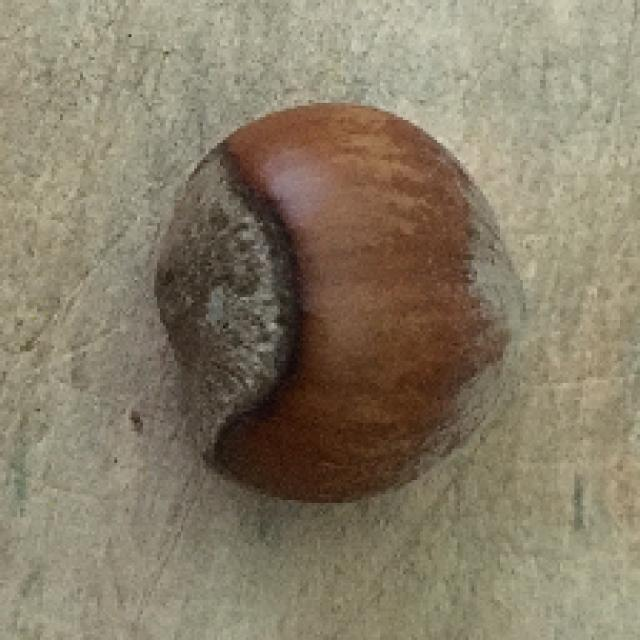qualityHazelnut: (154, 100, 523, 499)
